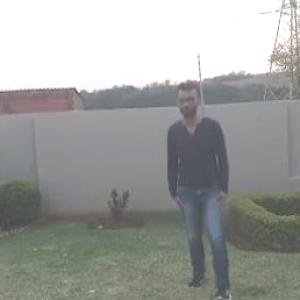follow: (169, 67, 240, 299)
